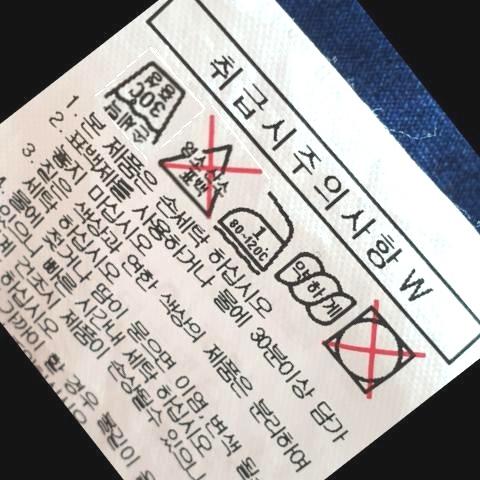DN_bleach: (162, 125, 246, 211)
DN_tumble_dry: (327, 309, 422, 397)
hand_wash: (106, 65, 188, 146)
iron_low: (222, 195, 300, 269)
wring: (279, 256, 360, 321)
